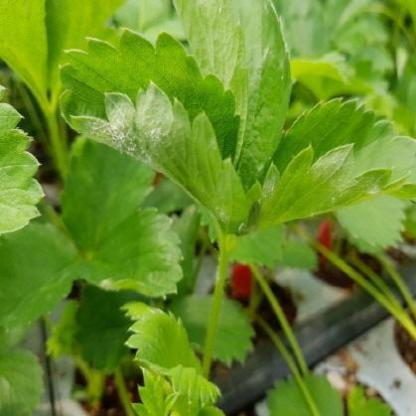Strawberry_Powdery_Mildew_Leaf: (57, 28, 264, 240), (247, 98, 415, 232)
